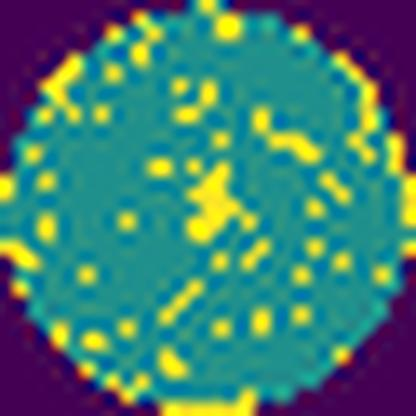Center: (181, 154, 268, 250)
